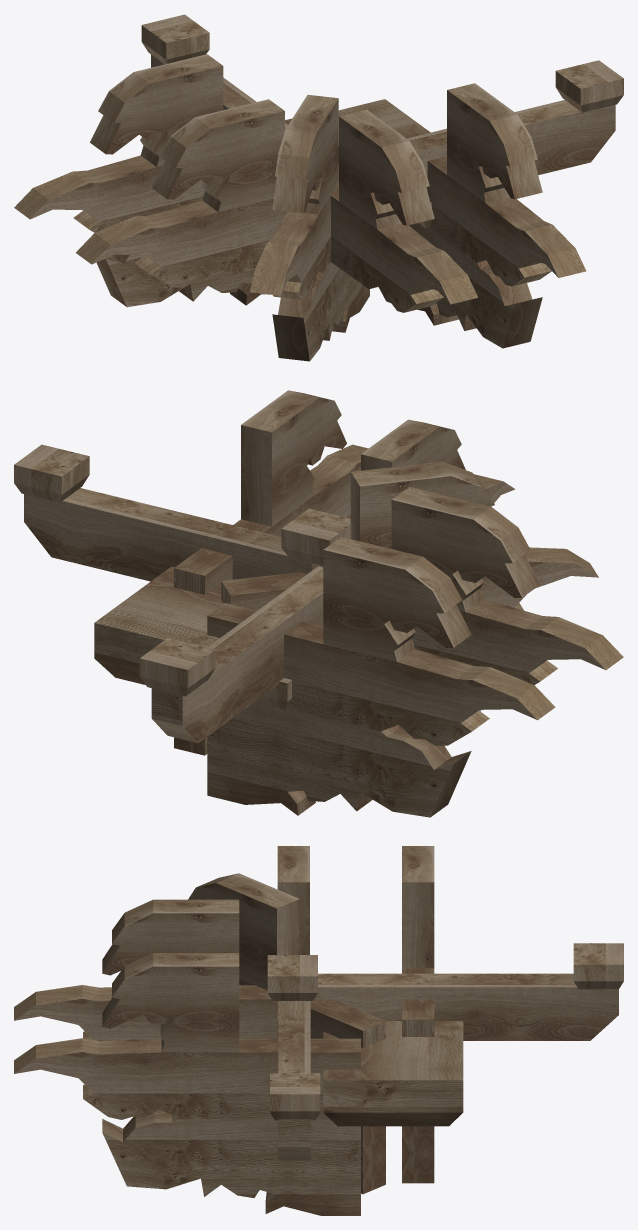
File: SM_Sun_Bul_Gongpo_B.fbx
3 views of the same model, one above another, from view 1: azimuth 30°, elevation 25°; view 2: azimuth 150°, elevation 25°; view 3: azimuth 270°, elevation 25° (orthographic). The views are drawn at different scales.
Visible parts, largest first — view 1: SM_Sun_Bul_Gongpo_B; view 2: SM_Sun_Bul_Gongpo_B; view 3: SM_Sun_Bul_Gongpo_B.
Boxes of the visible parts, box(x1,y1,x2,y2) form: SM_Sun_Bul_Gongpo_B: box(14, 14, 623, 361); SM_Sun_Bul_Gongpo_B: box(14, 390, 623, 817); SM_Sun_Bul_Gongpo_B: box(14, 846, 623, 1215).
Bounding box in the file's own units: 189 × 84.6 × 188.
